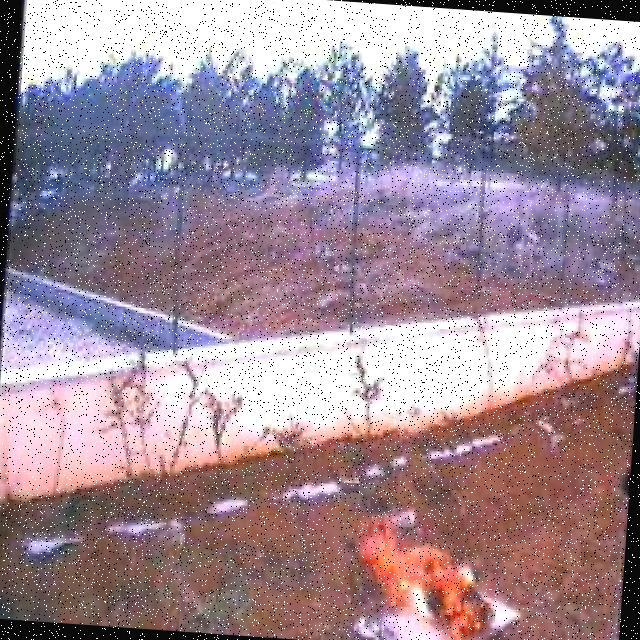Fire: (350, 518, 504, 640)
